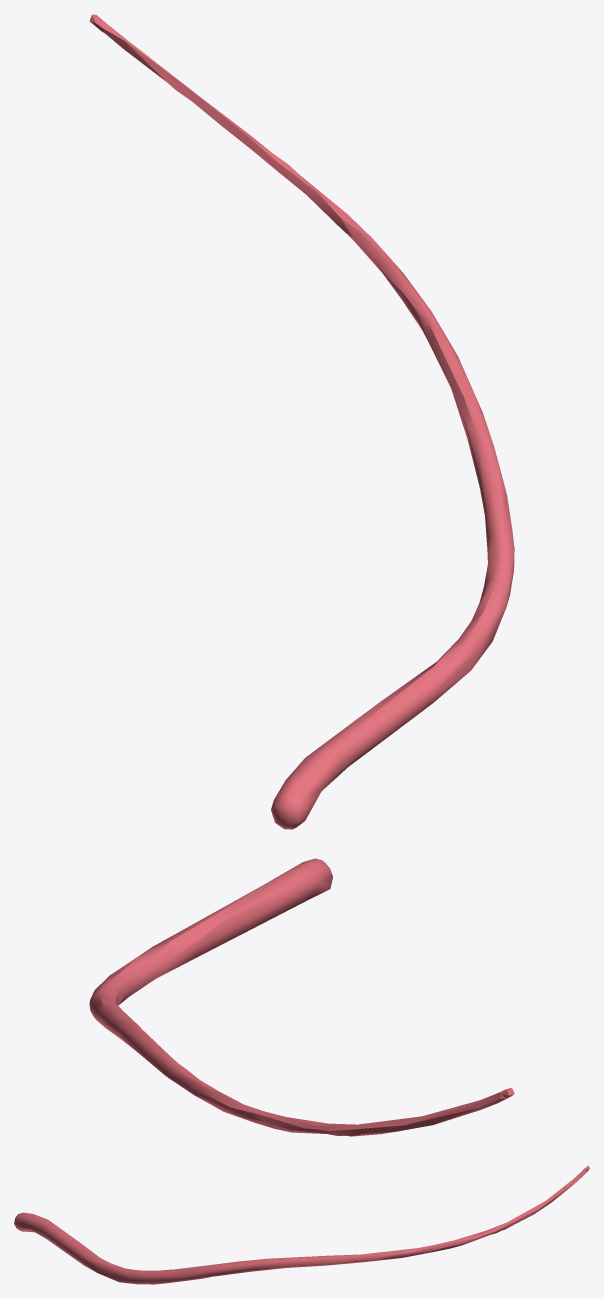
File: fma50089_fj1658m.glb
3 views of the same model, one above another, from view 1: azimuth 30°, elevation 25°; view 2: azimuth 210°, elevation 25°; view 3: azimuth 270°, elevation 25° (orthographic). The views are drawn at different scales.
Visible parts, largest first — view 1: FMA50089_FJ1658M; view 2: FMA50089_FJ1658M; view 3: FMA50089_FJ1658M.
Part boxes in pixels (x1=…): FMA50089_FJ1658M: x1=89, y1=14, x2=514, y2=829; FMA50089_FJ1658M: x1=89, y1=858, x2=514, y2=1136; FMA50089_FJ1658M: x1=14, y1=1165, x2=589, y2=1284.
Bounding box in the file's own units: 0.0229 × 0.0138 × 0.0467.
